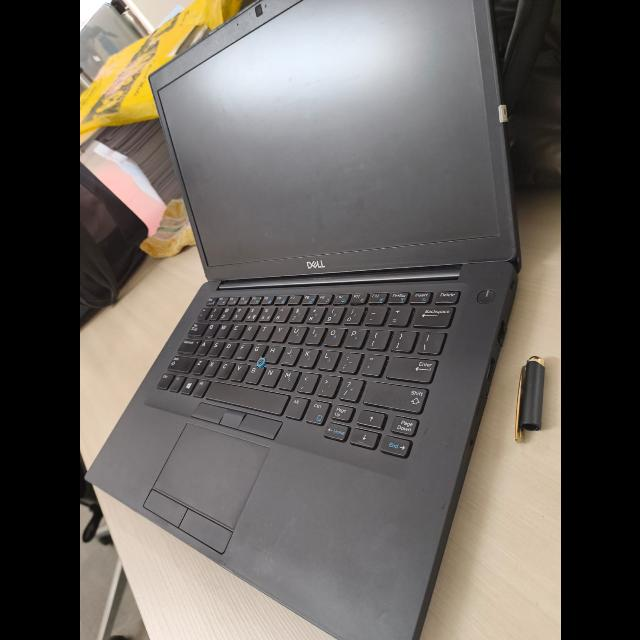laptop: (89, 1, 514, 611)
